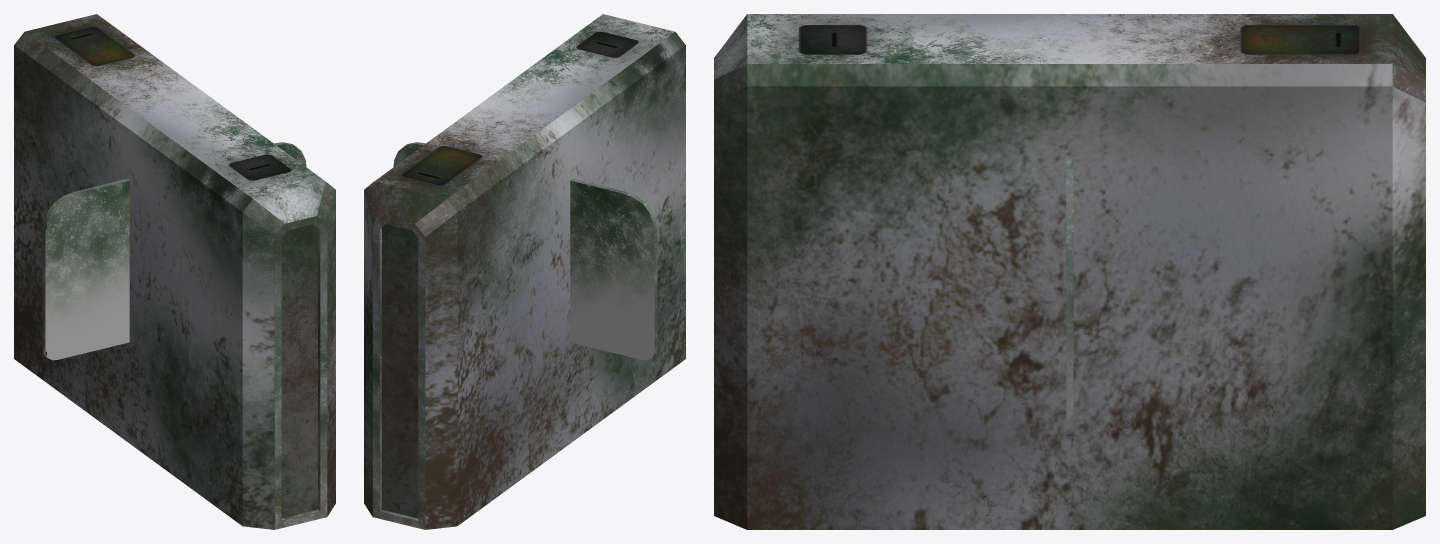
Rendered from Rail Station Card Reader.FBX.
3 views of the same model, side by side, from view 1: azimuth 30°, elevation 25°; view 2: azimuth 150°, elevation 25°; view 3: azimuth 270°, elevation 25° (orthographic). The views are drawn at different scales.
Visible parts, largest first — view 1: Box001; view 2: Box001; view 3: Box001.
Boxes of the visible parts, left/top/right/bottom form: Box001: left=14, top=14, right=335, bottom=529; Box001: left=364, top=14, right=685, bottom=529; Box001: left=714, top=14, right=1425, bottom=529.
Bounding box in the file's own units: 30.03 × 35.61 × 50.05.
Materials: 1 (1 with a texture image).
